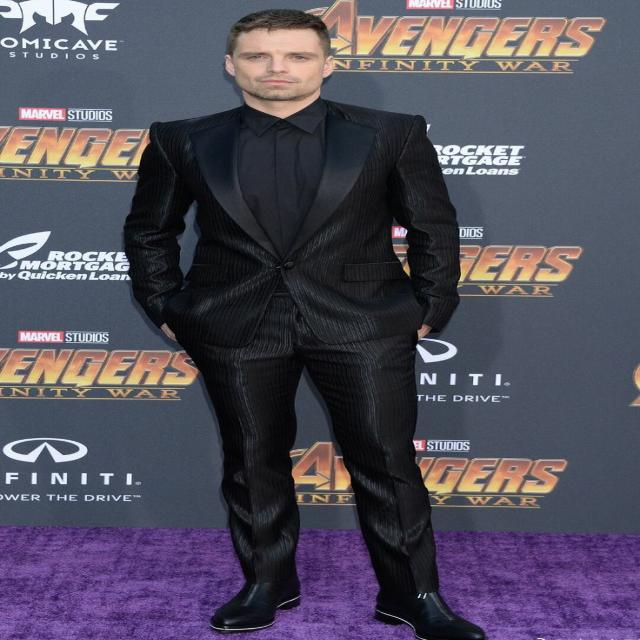female-dress: (135, 115, 523, 622)
